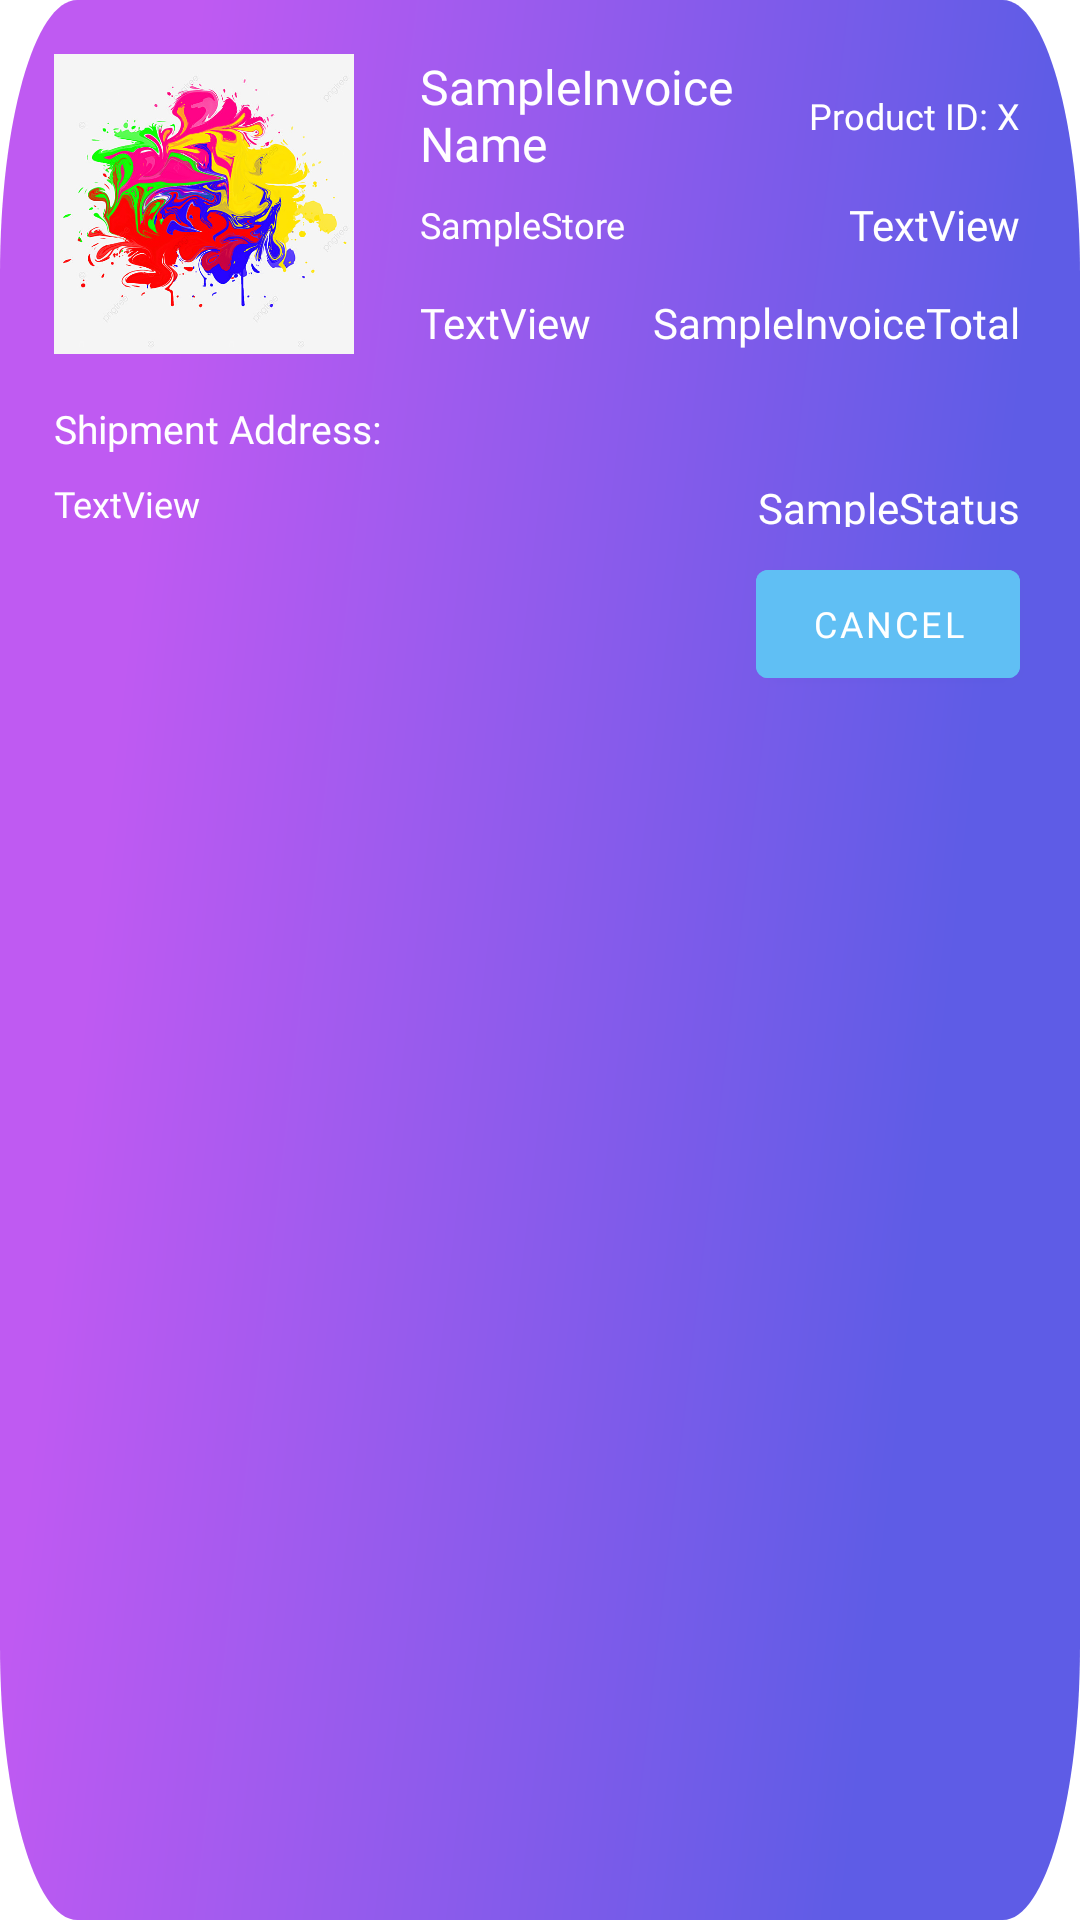

Screen size 1080 × 1920. Icon name, then its box in pixels as (x1, y1, x2, y2):
art: (54, 54, 354, 354)
